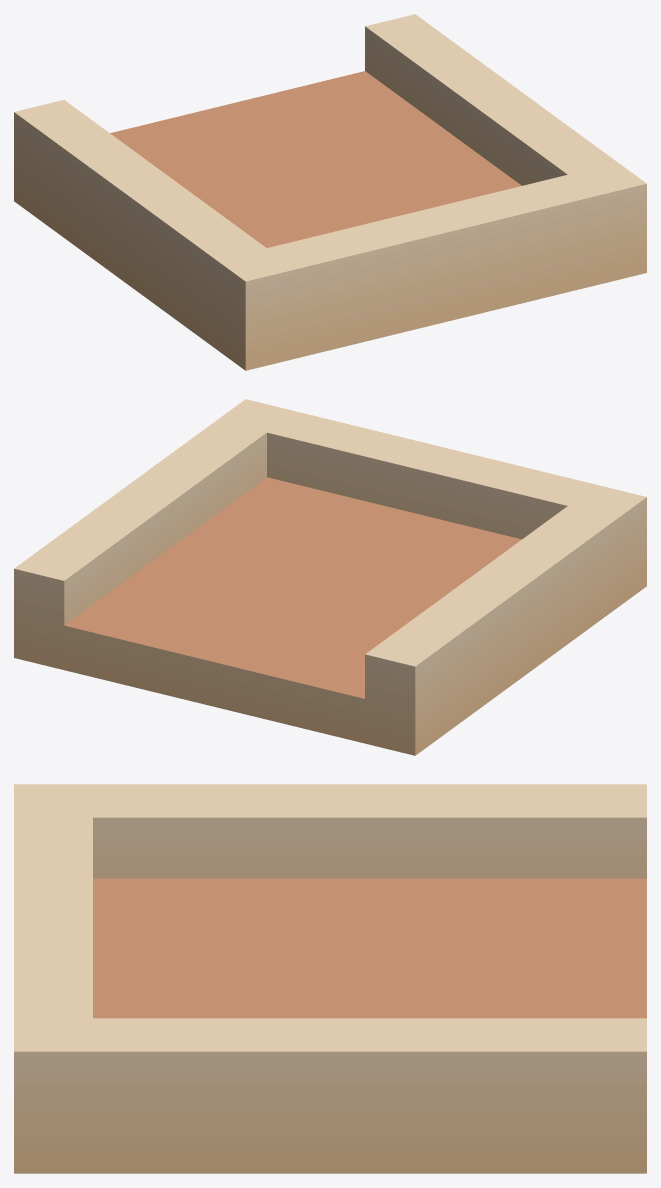
File: kenney-modular-buildings-roof-flat-border-end.glb
3 views of the same model, one above another, from view 1: azimuth 30°, elevation 25°; view 2: azimuth 150°, elevation 25°; view 3: azimuth 270°, elevation 25° (orthographic). The views are drawn at different scales.
Visible parts, largest first — view 1: roof-flat-border-end; view 2: roof-flat-border-end; view 3: roof-flat-border-end.
Part boxes in pixels (x1,y1,x2,y2): roof-flat-border-end: [14, 14, 646, 370]; roof-flat-border-end: [14, 399, 646, 755]; roof-flat-border-end: [14, 784, 646, 1173].
Size of the model in its own units: 1 by 0.2125 by 1.
1 material, 1 textured.
